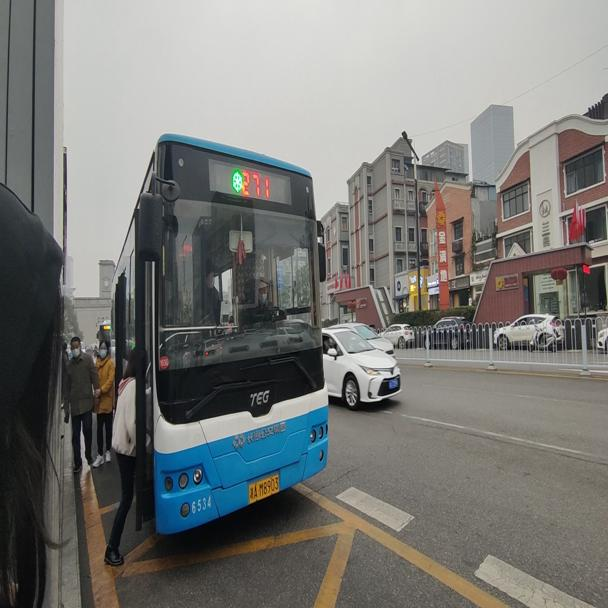bus: (109, 130, 329, 532)
screen: (242, 166, 273, 199)
